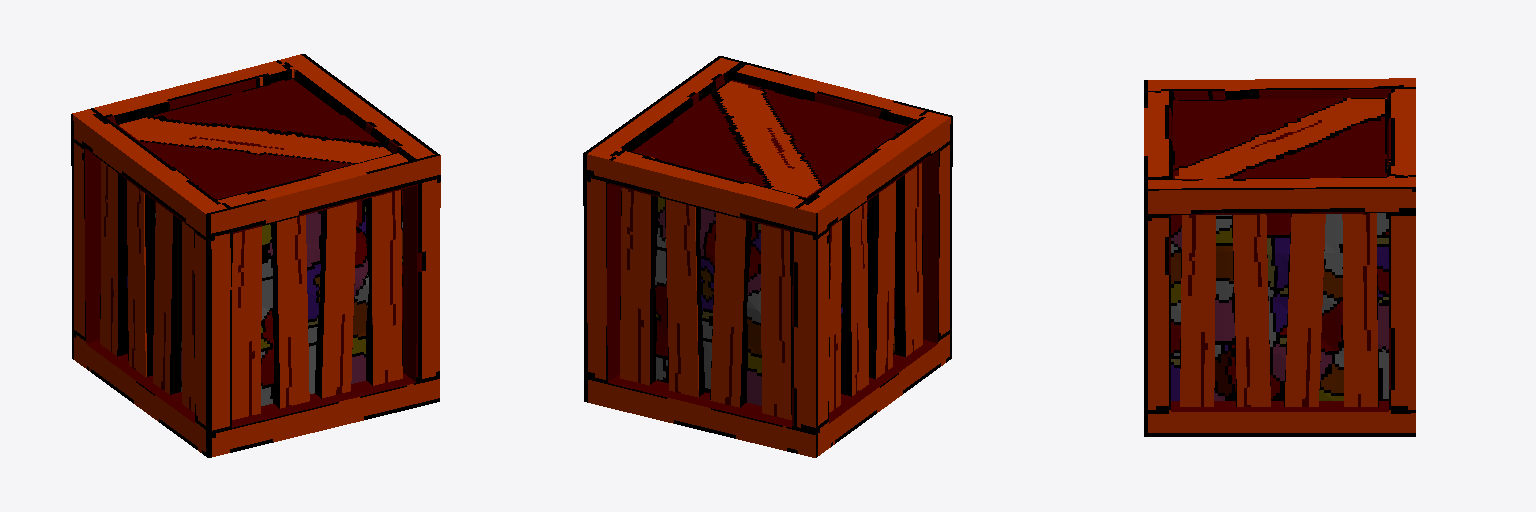
3 views of the same model, side by side, from view 1: azimuth 30°, elevation 25°; view 2: azimuth 150°, elevation 25°; view 3: azimuth 270°, elevation 25° (orthographic).
Parts seen in each view (by area): view 1: Cube; view 2: Cube; view 3: Cube.
Part boxes in pixels (x1,y1,x2,y2): Cube: (71, 54, 440, 457); Cube: (583, 56, 952, 457); Cube: (1144, 78, 1415, 436).
Bounding box in the file's own units: 1.97 × 2.01 × 2.
Materials: 2 (2 with a texture image).